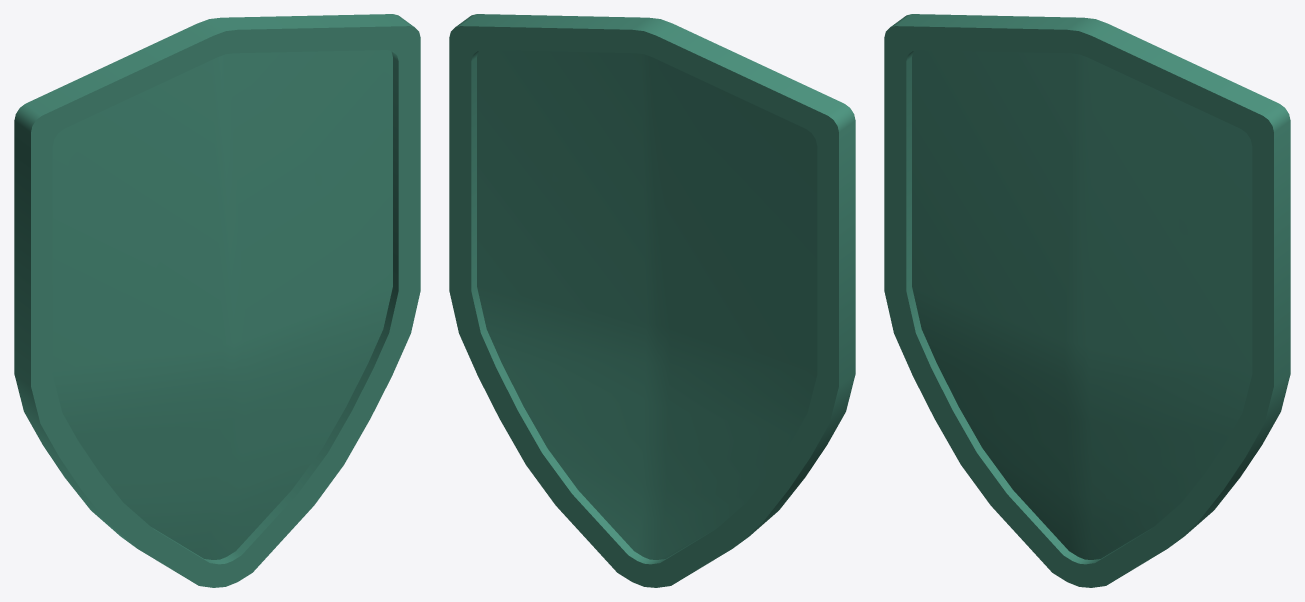
Rendered from shield.fbx.
3 views of the same model, side by side, from view 1: azimuth 30°, elevation 25°; view 2: azimuth 150°, elevation 25°; view 3: azimuth 330°, elevation 25° (orthographic).
Parts seen in each view (by area): view 1: Cube; view 2: Cube; view 3: Cube.
Part boxes in pixels (x1,y1,x2,y2): Cube: (14,14,420,587); Cube: (449,14,855,587); Cube: (884,14,1290,587).
Bounding box in the file's own units: 89.24 × 122 × 8.8.
